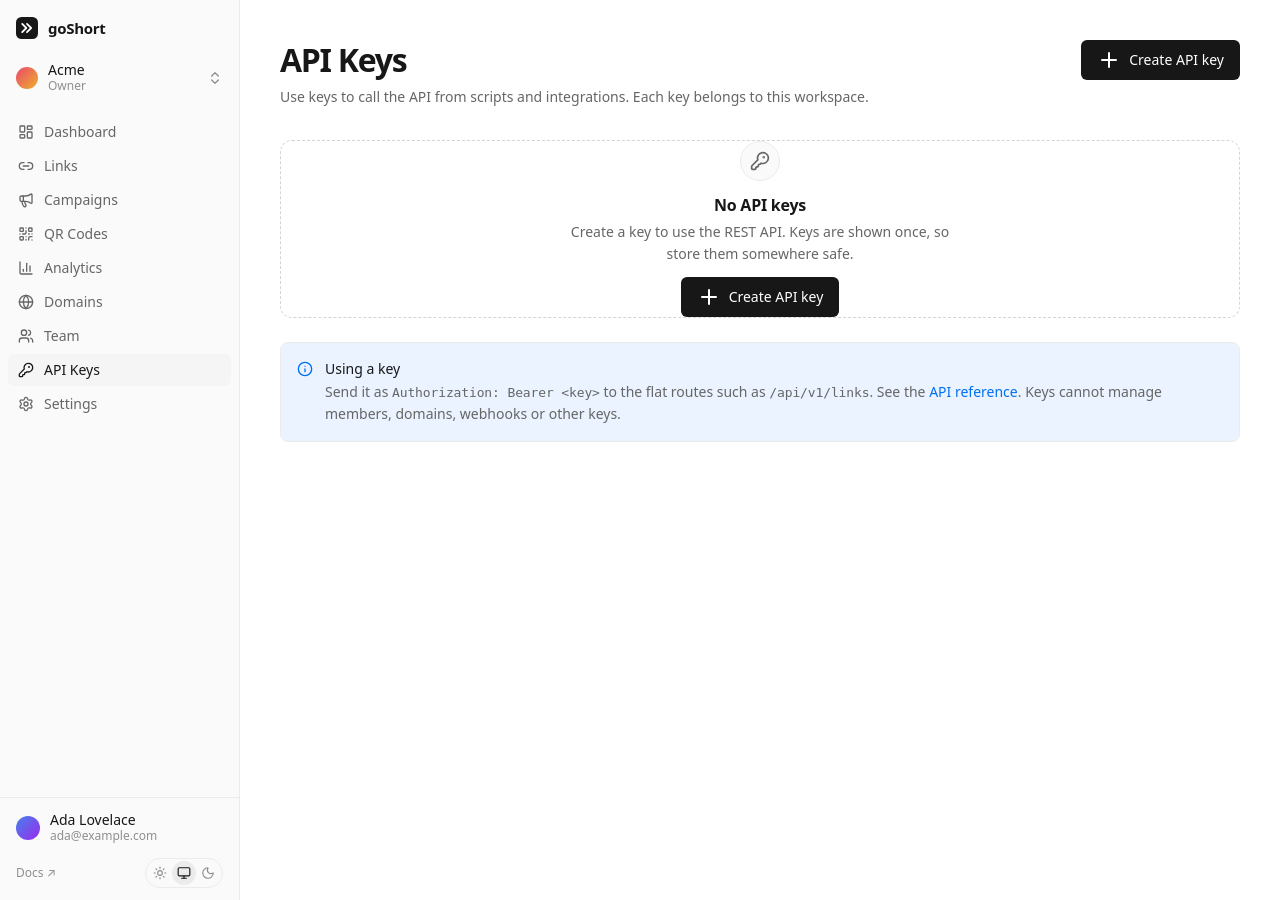
Test: api keys › shows the full key once after creation and posts the chosen role
Click the 1st button "Create API key" at (1161, 60), box [1081,40,1240,80]
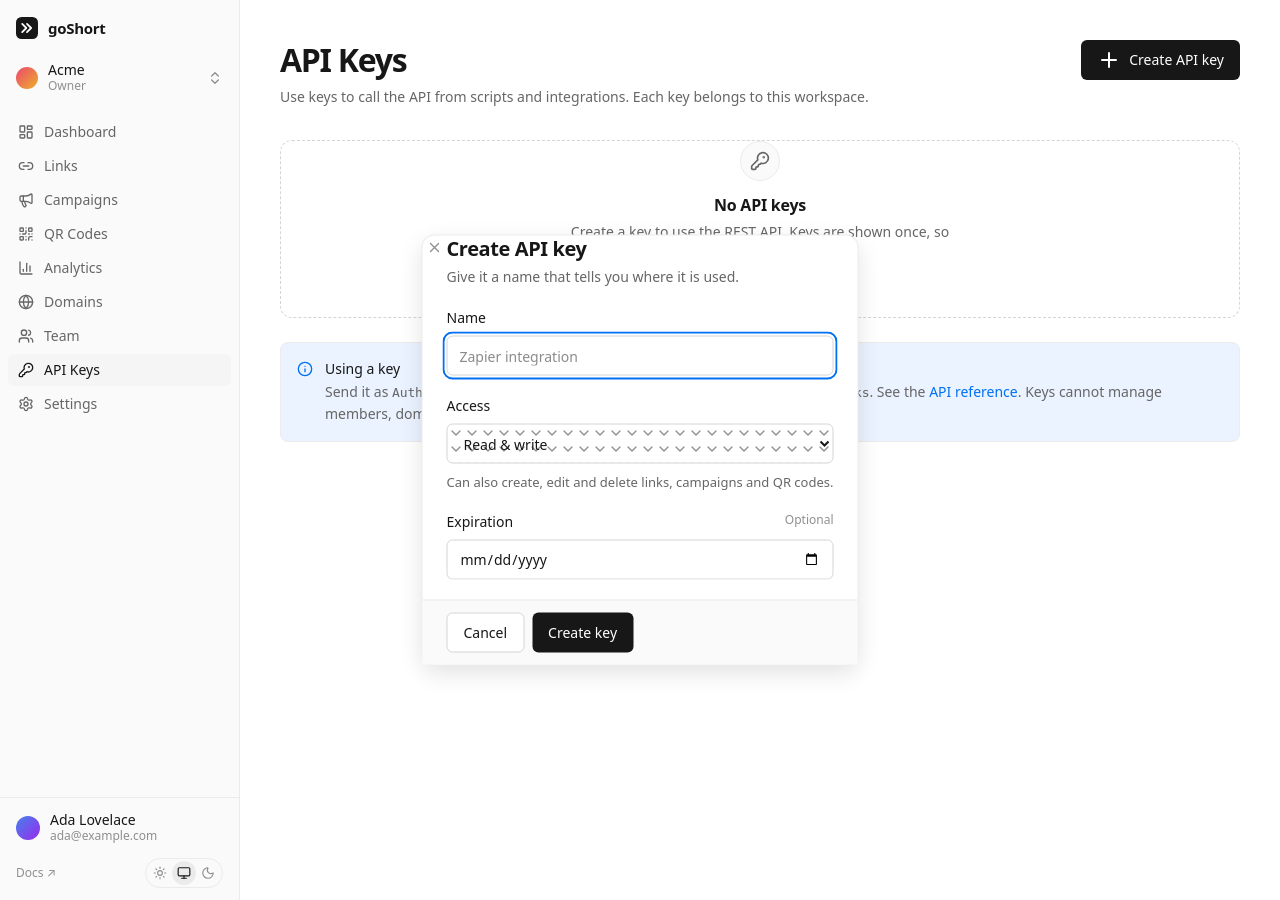
Type "Zapier" into the field labelled "Name" at (640, 356), box [446,336,834,376]
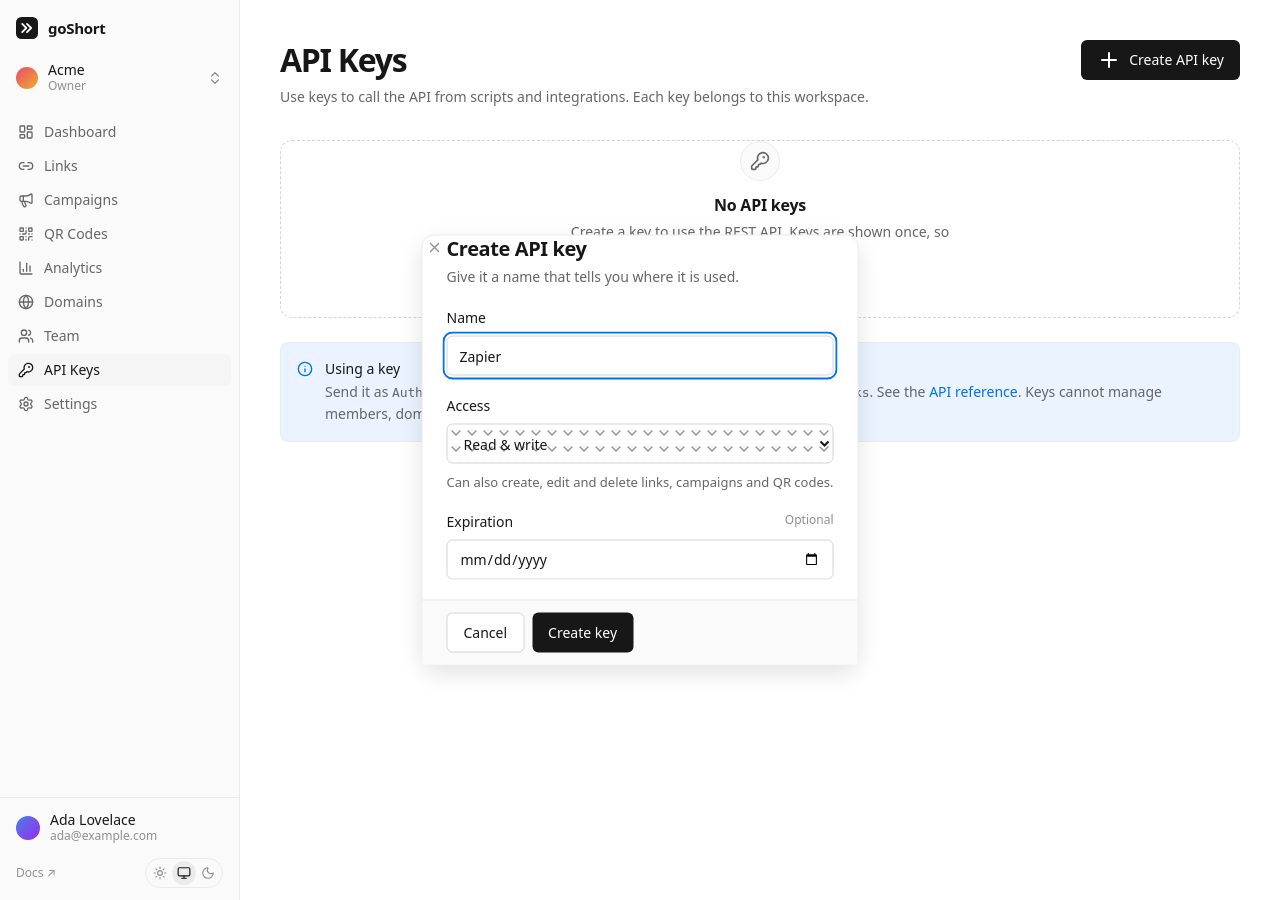
Select "Read-only" in the dropdown labelled "Access" at (640, 444), box [446,424,834,464]
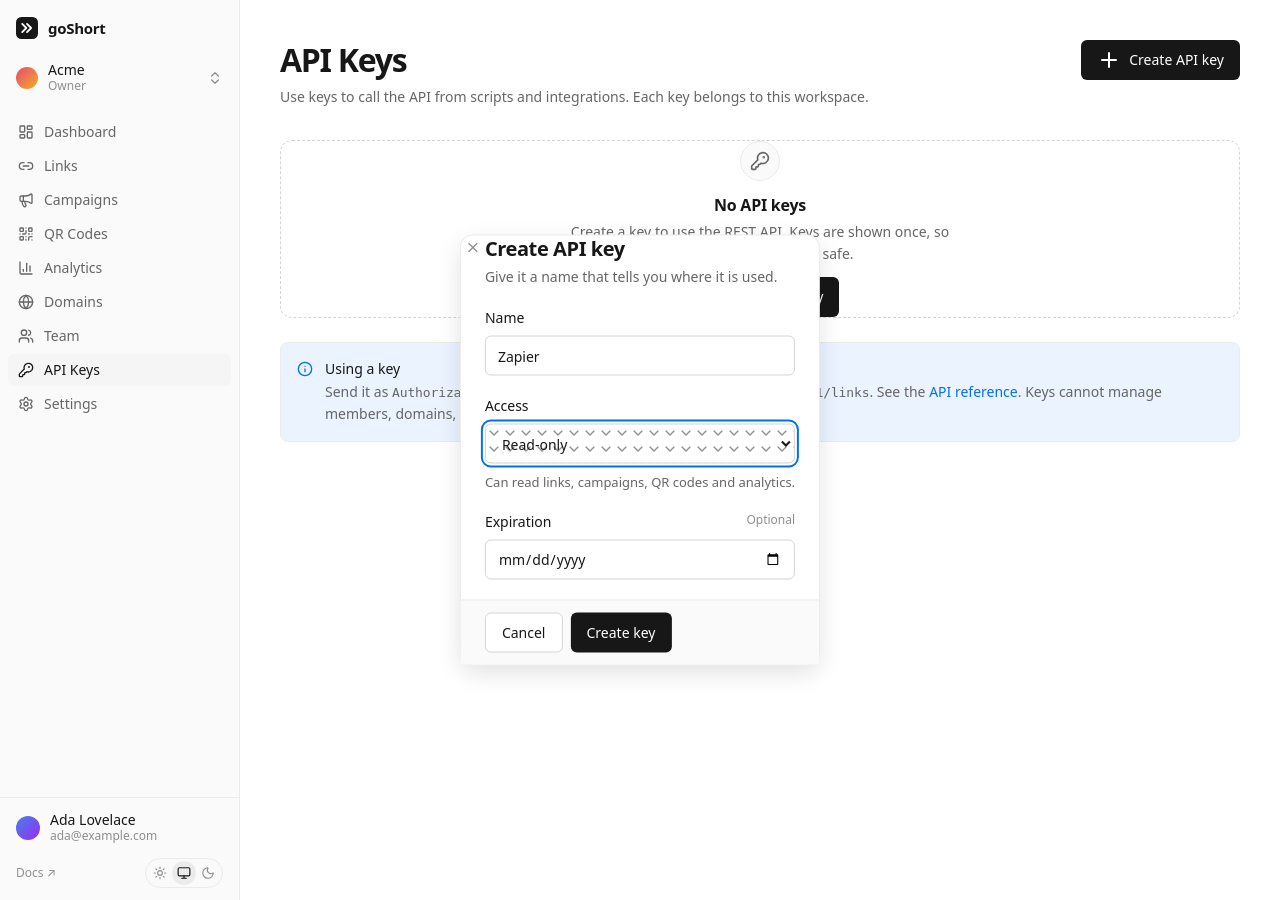
Click the button "Create key" at (621, 632), box [570,612,671,652]
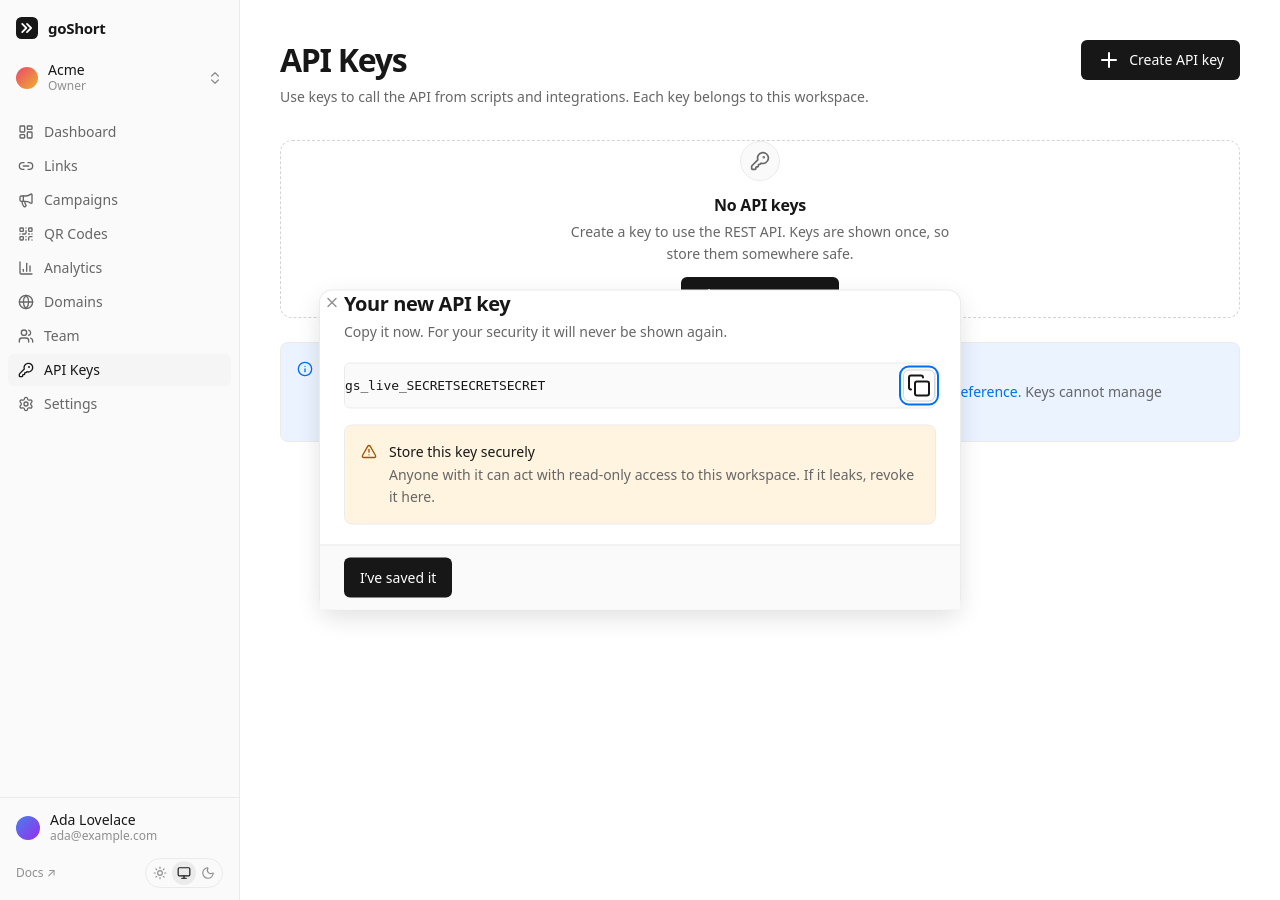
Now the dialog "Your new API key" shows "gs_live_SECRETSECRETSECRET", box [345,378,545,392]
Now the dialog "Your new API key" shows "read-only", box [569,464,631,484]
Click the button "I’ve saved it" at (398, 578), box [344,558,452,598]
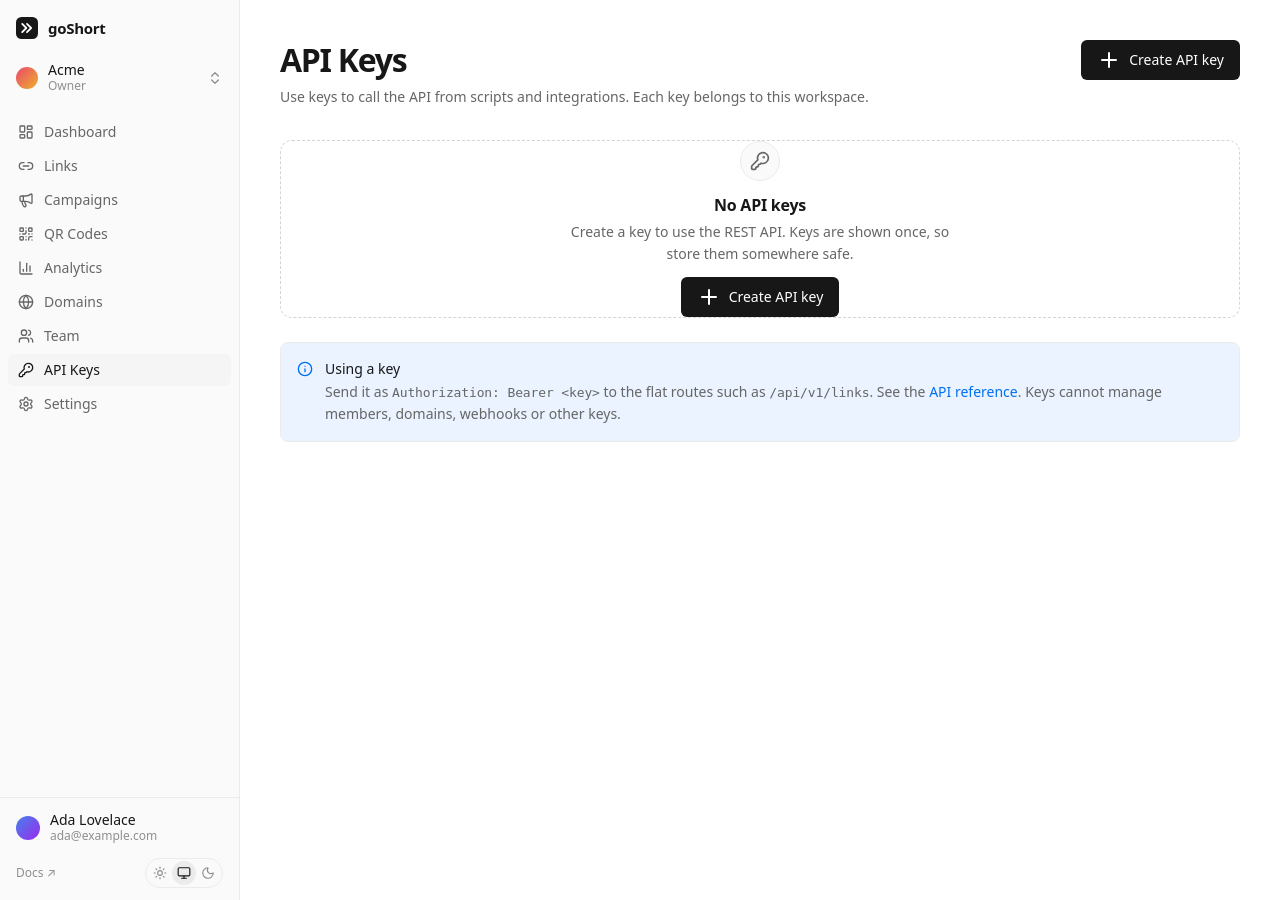
Now the text "gs_live_SECRETSECRETSECRET" is gone
